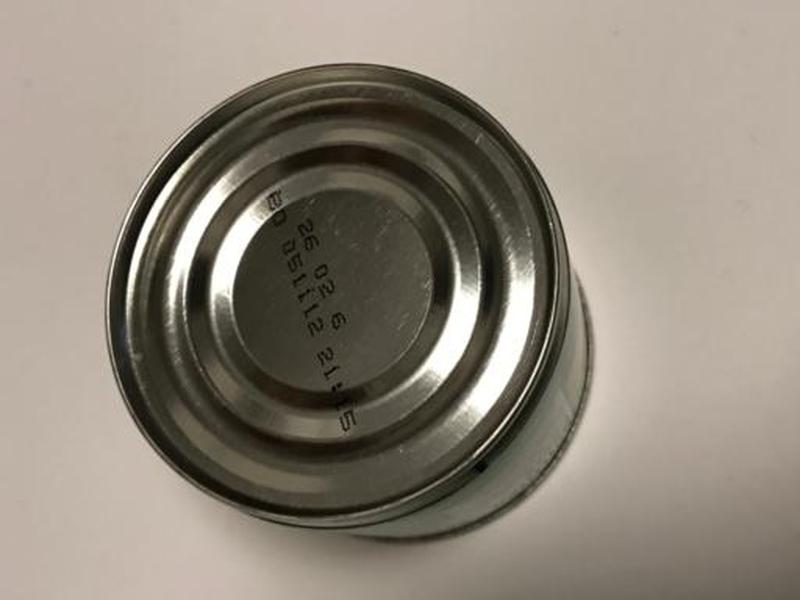can: (97, 59, 605, 551)
